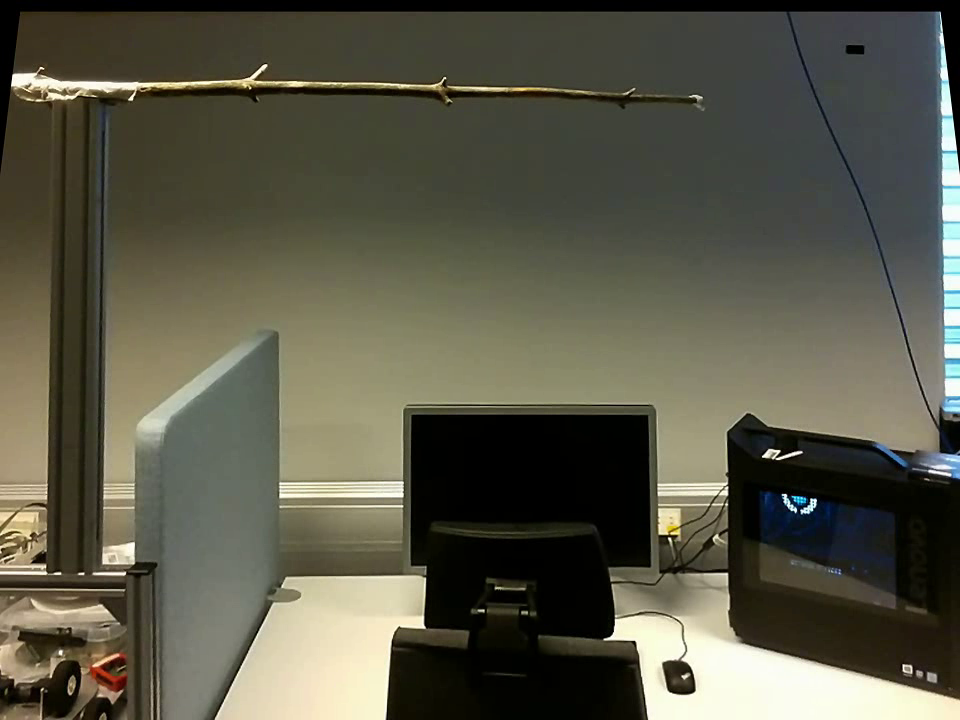aluminum_frame: (41, 104, 106, 569), (123, 564, 166, 717), (0, 557, 128, 598)
branch: (147, 54, 686, 117)
